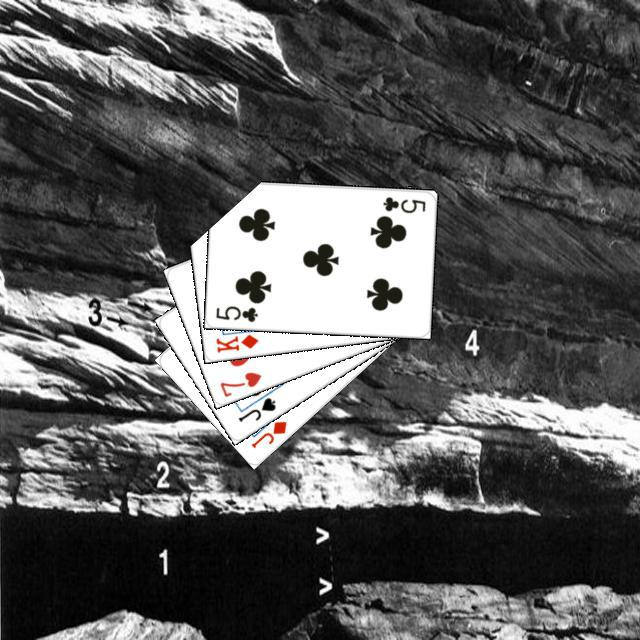5c: (378, 192, 427, 214), (211, 301, 259, 323)
7h: (215, 367, 263, 399)
Jd: (246, 416, 289, 450)
Js: (233, 392, 277, 424)
Kd: (211, 329, 260, 354)
